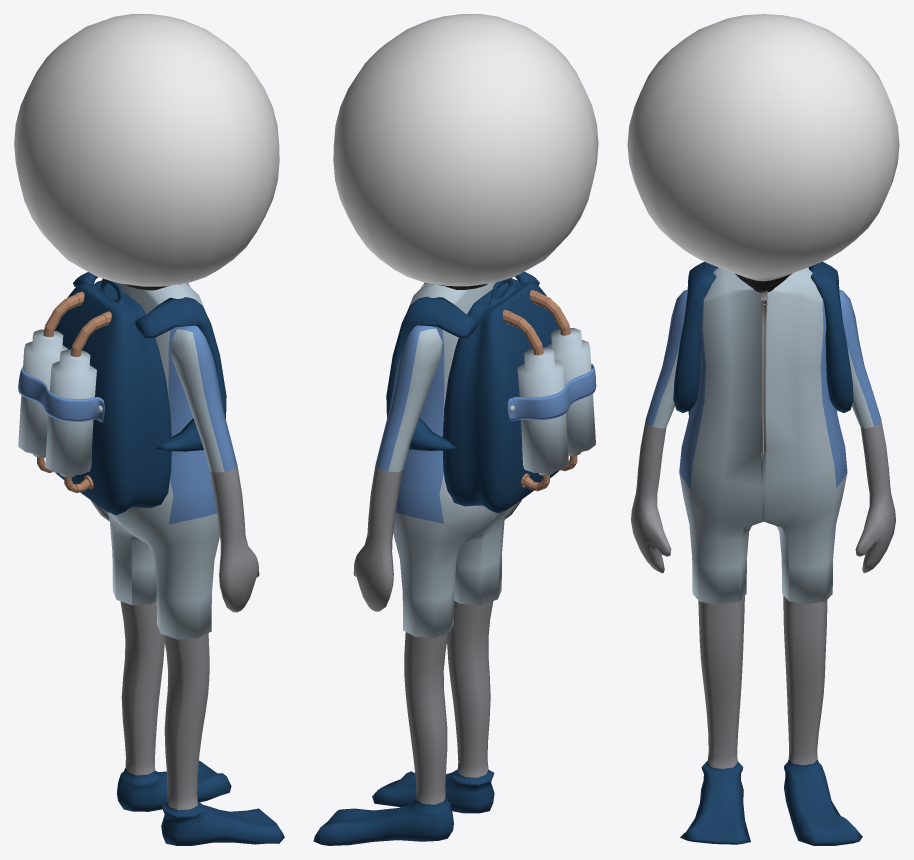
Rendered from layne formal.fbx.
3 renders of one model, left to right at view 1: azimuth 30°, elevation 25°; view 2: azimuth 150°, elevation 25°; view 3: azimuth 270°, elevation 25°, orthographic. The views are drawn at different scales.
Visible parts, largest first — view 1: Sphere, Cylinder.002, body, body.001, arm1; view 2: Sphere, Cylinder.002, body, body.001, arm1; view 3: Sphere, body.001, body, arm1, Cylinder.002.
Boxes of the visible parts, x1,y1,x2,y2 form: Sphere: [14, 14, 279, 290]; Cylinder.002: [18, 272, 226, 515]; body: [116, 601, 284, 845]; body.001: [107, 282, 219, 639]; arm1: [91, 325, 259, 612]; Sphere: [333, 14, 598, 289]; Cylinder.002: [386, 271, 596, 513]; body: [313, 601, 494, 845]; body.001: [393, 282, 506, 637]; arm1: [353, 325, 521, 611]; Sphere: [627, 14, 899, 292]; body.001: [679, 267, 847, 604]; body: [680, 595, 862, 845]; arm1: [631, 290, 895, 573]; Cylinder.002: [673, 261, 853, 415].
Bounding box in the file's own units: 305 × 1043 × 332.
